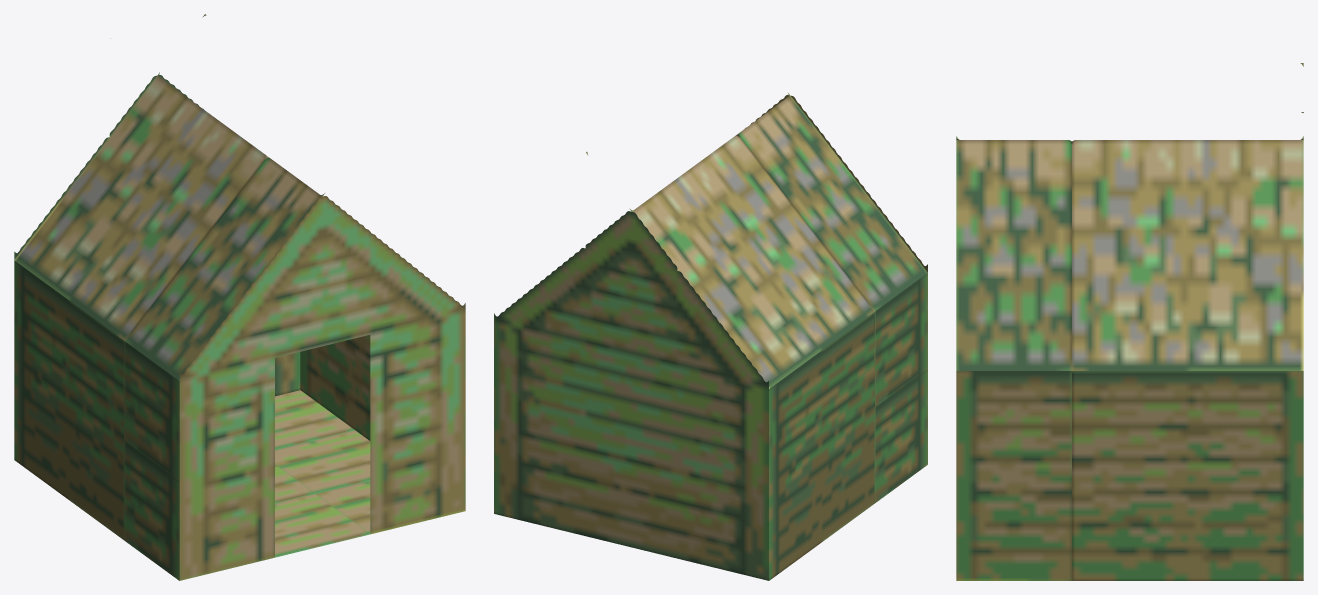
File: House.obj
3 views of the same model, side by side, from view 1: azimuth 30°, elevation 25°; view 2: azimuth 150°, elevation 25°; view 3: azimuth 270°, elevation 25° (orthographic). The views are drawn at different scales.
Parts seen in each view (by area): view 1: Default; view 2: Default; view 3: Default.
Part boxes in pixels (x1,y1,x2,y2): Default: (14,14,465,580); Default: (494,93,927,580); Default: (956,63,1303,580).
Size of the model in its own units: 3 by 4 by 3.
1 material, 1 textured.
